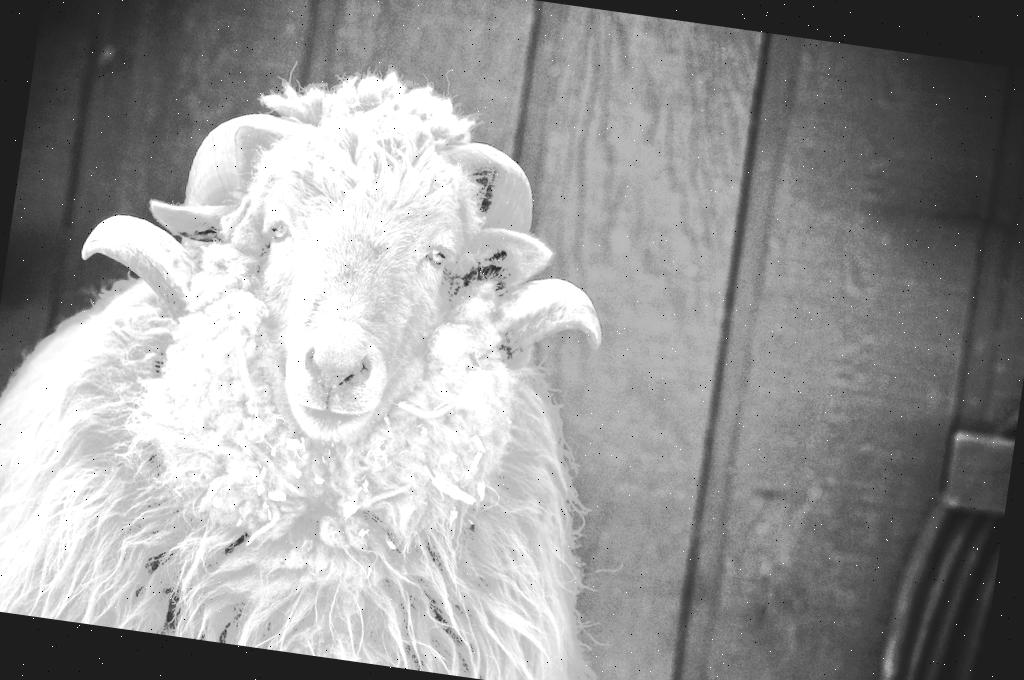Sheep: (0, 22, 670, 680)
